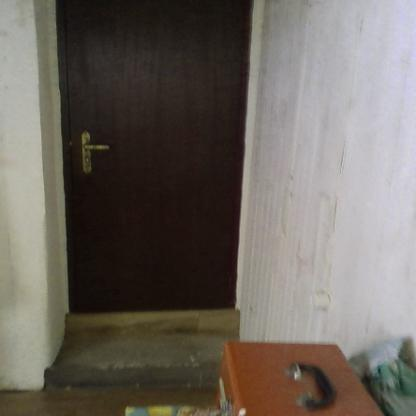door: (58, 0, 238, 307)
hinged: (228, 275, 236, 293), (247, 12, 254, 30)
lever: (80, 142, 111, 152)
